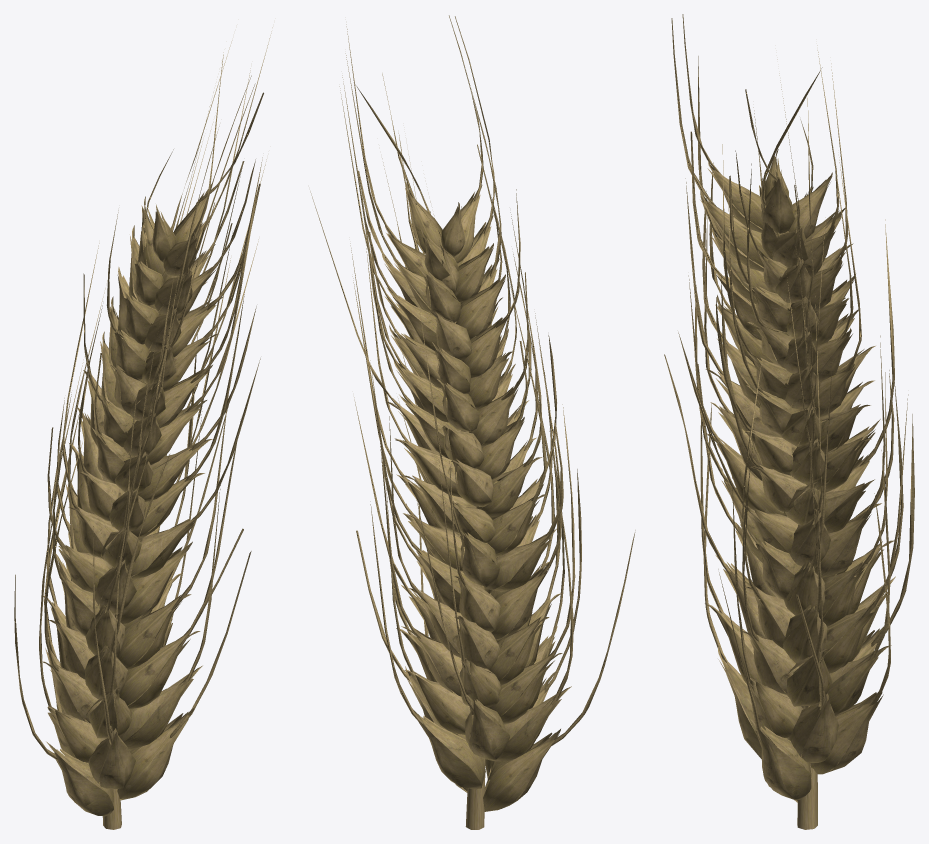
The model's file is trigo-hero.glb.
3 renders of one model, left to right at view 1: azimuth 30°, elevation 25°; view 2: azimuth 150°, elevation 25°; view 3: azimuth 270°, elevation 25°, orthographic. The views are drawn at different scales.
Visible parts, largest first — view 1: defaultMaterial; view 2: defaultMaterial; view 3: defaultMaterial.
Part boxes in pixels (left/top/right/bottom): defaultMaterial: left=14, top=27, right=272, bottom=829; defaultMaterial: left=310, top=15, right=635, bottom=829; defaultMaterial: left=664, top=14, right=914, bottom=829.
Bounding box in the file's own units: 0.7851 × 1.98 × 0.5166.
Materials: 1 (1 with a texture image).
